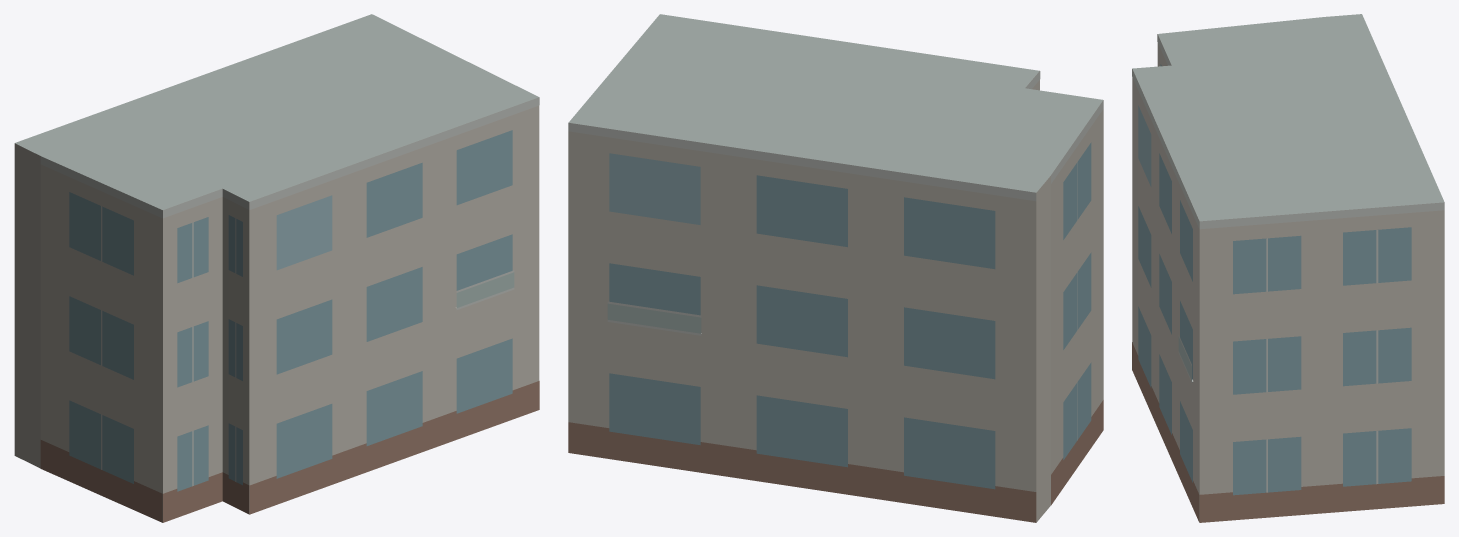
Rendered from survey-upis-32700688.glb.
3 renders of one model, left to right at view 1: azimuth 30°, elevation 25°; view 2: azimuth 150°, elevation 25°; view 3: azimuth 270°, elevation 25°, orthographic. The views are drawn at different scales.
Parts seen in each view (by area): view 1: survey-upis-32700688.tmp; view 2: survey-upis-32700688.tmp; view 3: survey-upis-32700688.tmp.
Part boxes in pixels (<box>): survey-upis-32700688.tmp: <box>14,14,539,522</box>; survey-upis-32700688.tmp: <box>568,14,1103,522</box>; survey-upis-32700688.tmp: <box>1132,14,1444,522</box>.
Bounding box in the file's own units: 13.73 × 9.3 × 8.75.
